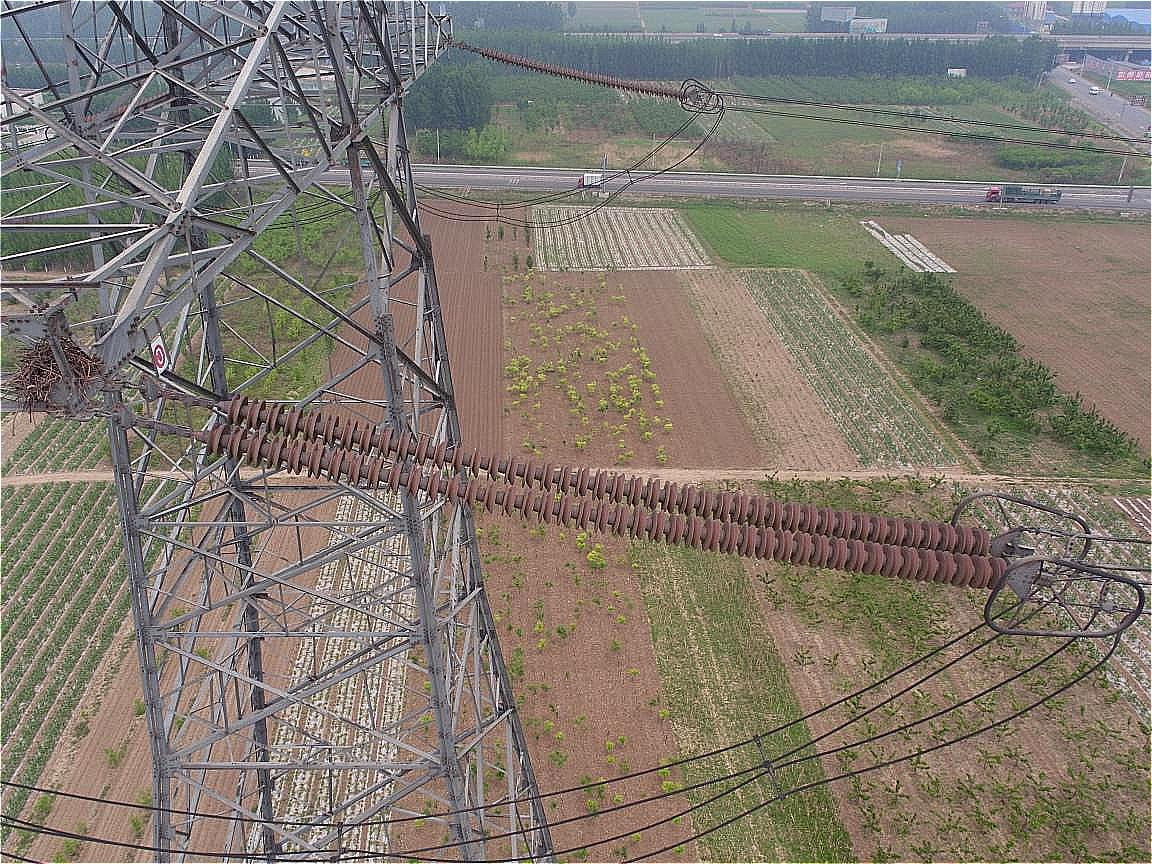insultor2: (186, 388, 1022, 610)
